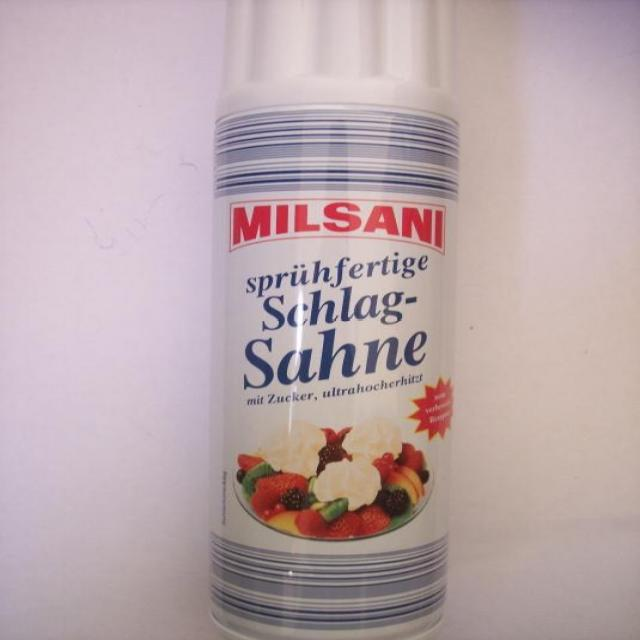Cream: (212, 0, 459, 640)
